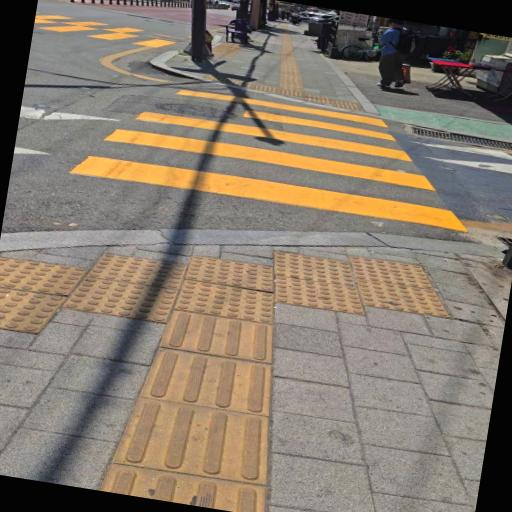yellow-crosswalk: (38, 60, 495, 246), (32, 6, 205, 60)
